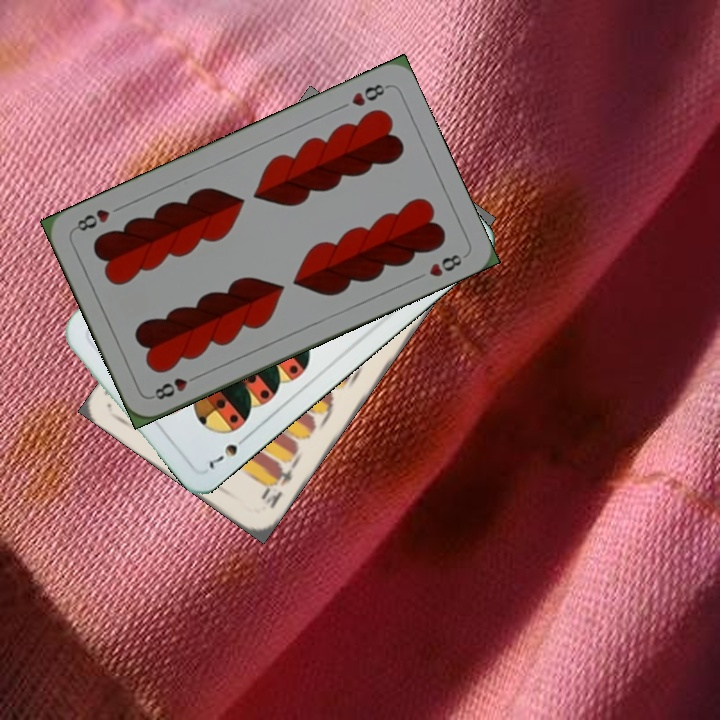E10: (256, 460, 298, 511)
H8: (148, 369, 204, 403), (347, 79, 391, 109)
S7: (205, 430, 252, 472)
